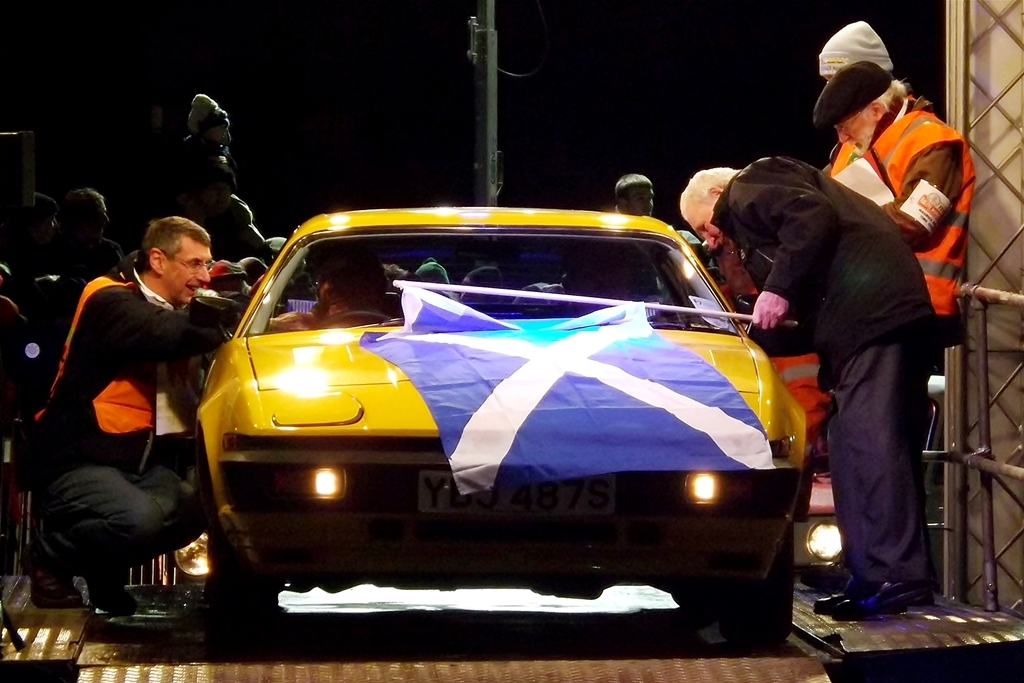Car: (170, 202, 814, 633)
